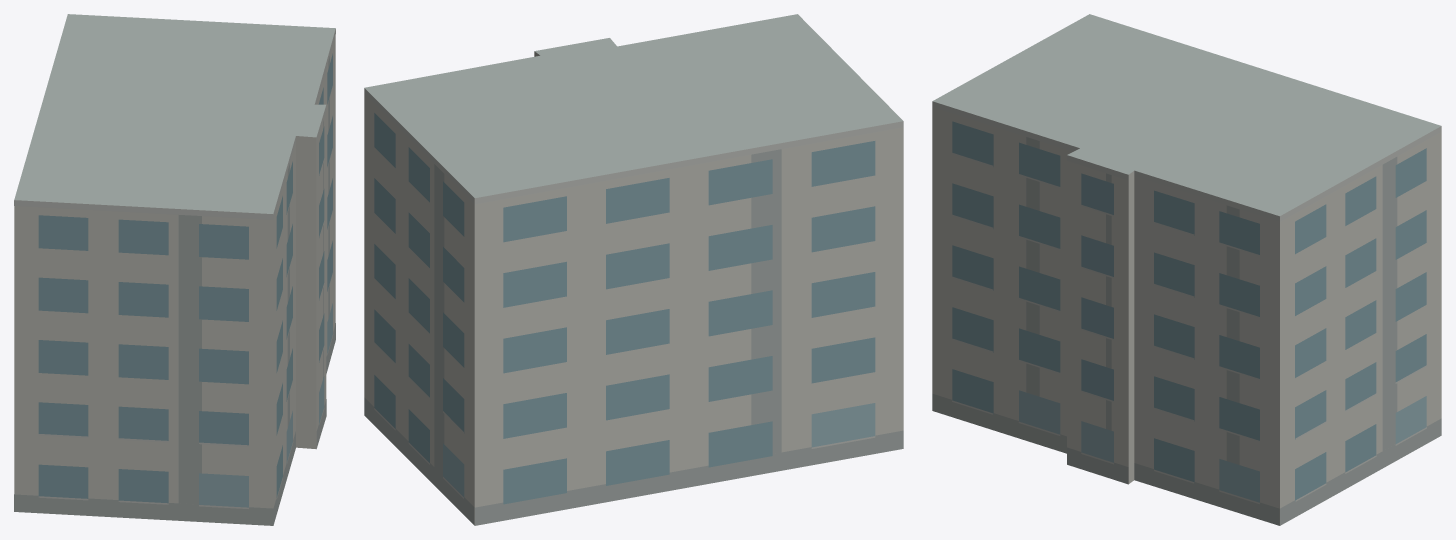
Rendered from survey-upis-32615949.glb.
3 views of the same model, side by side, from view 1: azimuth 30°, elevation 25°; view 2: azimuth 150°, elevation 25°; view 3: azimuth 270°, elevation 25° (orthographic). The views are drawn at different scales.
Parts seen in each view (by area): view 1: survey-upis-32615949.tmp; view 2: survey-upis-32615949.tmp; view 3: survey-upis-32615949.tmp.
Part boxes in pixels (box(x1,y1,x2,y2)): survey-upis-32615949.tmp: box(14, 14, 335, 525); survey-upis-32615949.tmp: box(364, 14, 903, 525); survey-upis-32615949.tmp: box(932, 14, 1441, 525).
Bounding box in the file's own units: 18.36 × 13.1 × 19.54.
